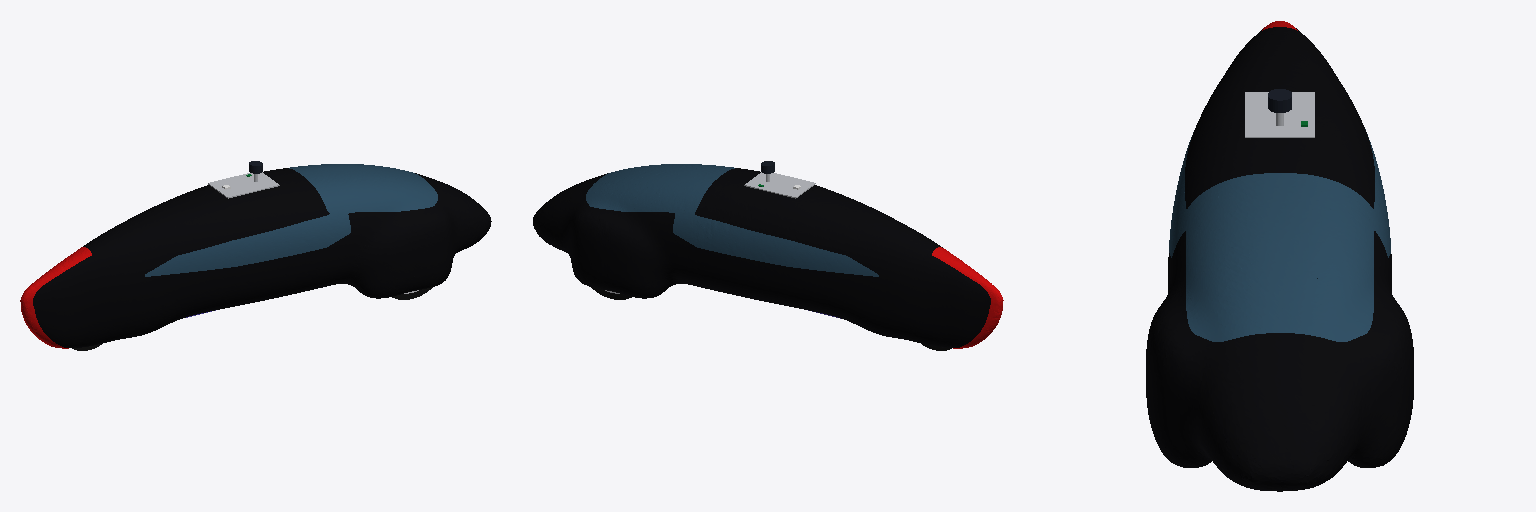
URDF robot description (enimia_black):
<?xml version="1.0"?>
<!--
  ENIMIA - Black Edition (ENIM Team Tunisia) - Prototype Shell Eco-marathon      v3 (surface lissee)
  Carrosserie reconstruite a partir des silhouettes des vues de dessus et de cote :
    - profil de toit / bas de caisse releve pixel par pixel sur la vue de cote
    - largeur (plan) relevee sur la vue de dessus
    - 2 carenes de roues avant (contour releve sur la vue de cote + vue de dessus)
    - vitrage (cockpit + vitres laterales) et bord de fuite rouge separes
  v3 : profils C2 (B-splines), raccords carenes/fuselage arrondis, lissage de Taubin,
       maillages COLLADA (.dae) avec normales par sommet -> ombrage lisse dans RViz/Gazebo.
       Copies STL (ombrage plat) dans meshes/stl/ pour les outils qui ne lisent pas le DAE.
  Dimensions : L 2684 x l 770 x h 695 mm, empattement 1704 mm,
               voie avant 567 mm, masse 25 kg
  Porte-a-faux : avant 593 mm, arriere 387 mm
  Roues : avant R 210 mm (limite par la carene), arriere R 180 mm (arc du pneu)

  Arbre cinematique :
    base_footprint (sol, milieu de l'empattement)
      └─ base_link (chassis, a hauteur d'axe avant)
           ├─ body_link               (coque + vitrage + bord de fuite, fixe : contient tout)
           ├─ front_left_steer_link   (revolute)   └─ front_left_wheel_link  (continuous)
           ├─ front_right_steer_link  (revolute)   └─ front_right_wheel_link (continuous)
           └─ rear_wheel_link         (continuous, motrice)
  Reperes REP-103 : X avant, Y gauche, Z haut. Unites SI.
-->
<robot name="enimia_black">

  <!-- ===================== Materiaux ===================== -->
  <material name="carbon_black"><color rgba="0.07 0.07 0.08 0.55"/></material>
  <material name="glass"><color rgba="0.20 0.32 0.40 0.35"/></material>
  <material name="tail_red"><color rgba="0.80 0.08 0.08 0.9"/></material>
  <material name="aluminium"><color rgba="0.75 0.76 0.78 1.0"/></material>
  <material name="tire"><color rgba="0.10 0.10 0.10 1.0"/></material>
  <material name="rim"><color rgba="0.82 0.82 0.84 1.0"/></material>
  <material name="floor"><color rgba="0.35 0.30 0.70 1.0"/></material>
  <material name="battery"><color rgba="0.85 0.80 0.15 1.0"/></material>
  <material name="lidar_body"><color rgba="0.12 0.14 0.18 1.0"/></material>
  <material name="gps_white"><color rgba="0.92 0.92 0.92 1.0"/></material>
  <material name="pcb_green"><color rgba="0.05 0.45 0.20 1.0"/></material>

  <!-- ===================== Base ===================== -->
  <link name="base_footprint"/>

  <joint name="base_footprint_joint" type="fixed">
    <parent link="base_footprint"/>
    <child link="base_link"/>
    <origin xyz="0 0 0.21" rpy="0 0 0"/>
  </joint>

  <!-- Chassis : plancher, traverse avant, colonne de direction, arceau, bras arriere, batterie -->
  <link name="base_link">
    <visual>
      <origin xyz="0.0955 0.0000 -0.0850" rpy="0 0 0"/>
      <geometry><box size="1.3 0.28 0.02"/></geometry>
      <material name="floor"/>
    </visual>
    <visual>
      <origin xyz="0.8520 0.0000 0.0000" rpy="0 0 0"/>
      <geometry><box size="0.04 0.48 0.03"/></geometry>
      <material name="aluminium"/>
    </visual>
    <visual>
      <origin xyz="0.8020 0.0000 0.0000" rpy="0 0 0"/>
      <geometry><box size="0.05 0.05 0.16"/></geometry>
      <material name="aluminium"/>
    </visual>
    <visual>
      <origin xyz="0.4455 0.0000 0.3400" rpy="0 0 0"/>
      <geometry><box size="0.03 0.39 0.03"/></geometry>
      <material name="aluminium"/>
    </visual>
    <visual>
      <origin xyz="0.4455 0.1800 0.1500" rpy="0 0 0"/>
      <geometry><box size="0.03 0.03 0.39"/></geometry>
      <material name="aluminium"/>
    </visual>
    <visual>
      <origin xyz="0.4455 -0.1800 0.1500" rpy="0 0 0"/>
      <geometry><box size="0.03 0.03 0.39"/></geometry>
      <material name="aluminium"/>
    </visual>
    <visual>
      <origin xyz="-0.7020 0.0350 -0.0575" rpy="0 0.18 0"/>
      <geometry><box size="0.31 0.015 0.025"/></geometry>
      <material name="aluminium"/>
    </visual>
    <visual>
      <origin xyz="-0.7020 -0.0350 -0.0575" rpy="0 0.18 0"/>
      <geometry><box size="0.31 0.015 0.025"/></geometry>
      <material name="aluminium"/>
    </visual>
    <visual>
      <origin xyz="-0.5320 0.0000 -0.0300" rpy="0 0 0"/>
      <geometry><box size="0.22 0.07 0.05"/></geometry>
      <material name="battery"/>
    </visual>
    <collision>
      <origin xyz="0.0955 0 -0.0850" rpy="0 0 0"/>
      <geometry><box size="1.3 0.28 0.02"/></geometry>
    </collision>
    <inertial>
      <origin xyz="-0.05 0 -0.050" rpy="0 0 0"/>
      <mass value="12.7"/>
      <inertia ixx="0.137583" ixy="0" ixz="0" iyy="2.42358" iyz="0" izz="2.4765"/>
    </inertial>
  </link>

  <!-- ===================== Coque (corps) ===================== -->
  <!-- Maillages exprimes dans le repere sol (origine au milieu de l'empattement) -->
  <link name="body_link">
    <visual>
      <origin xyz="0 0 0" rpy="0 0 0"/>
      <geometry><mesh filename="package://vehicle_description/meshes/body_shell.dae"/></geometry>
      <material name="carbon_black"/>
    </visual>
    <visual>
      <origin xyz="0 0 0" rpy="0 0 0"/>
      <geometry><mesh filename="package://vehicle_description/meshes/canopy.dae"/></geometry>
      <material name="glass"/>
    </visual>
    <visual>
      <origin xyz="0 0 0" rpy="0 0 0"/>
      <geometry><mesh filename="package://vehicle_description/meshes/tail_tip.dae"/></geometry>
      <material name="tail_red"/>
    </visual>
    <collision>
      <origin xyz="0 0 0" rpy="0 0 0"/>
      <geometry><mesh filename="package://vehicle_description/meshes/body_collision.stl"/></geometry>
    </collision>
    <inertial>
      <origin xyz="0.1939 0 0.329146" rpy="0 0 0"/>
      <mass value="7.0"/>
      <inertia ixx="0.587735" ixy="0.00022506" ixz="0.084203" iyy="3.65022" iyz="0" izz="3.67245"/>
    </inertial>
  </link>

  <joint name="body_joint" type="fixed">
    <parent link="base_link"/>
    <child link="body_link"/>
    <origin xyz="0 0 -0.21" rpy="0 0 0"/>
  </joint>

  <!-- ===================== Roue avant gauche (dans sa carene) ===================== -->
  <link name="front_left_steer_link">
    <visual>
      <origin xyz="0 -0.040 0" rpy="0 0 0"/>
      <geometry><box size="0.06 0.04 0.10"/></geometry>
      <material name="aluminium"/>
    </visual>
    <inertial>
      <origin xyz="0 -0.040 0" rpy="0 0 0"/>
      <mass value="0.4"/>
      <inertia ixx="0.000386667" ixy="0" ixz="0" iyy="0.000453333" iyz="0" izz="0.000173333"/>
    </inertial>
  </link>

  <joint name="front_left_steer_joint" type="revolute">
    <parent link="base_link"/>
    <child link="front_left_steer_link"/>
    <origin xyz="0.8520 0.2835 0" rpy="0 0 0"/>
    <axis xyz="0 0 1"/>
    <limit lower="-0.21" upper="0.21" effort="20" velocity="2.0"/>
    <dynamics damping="0.1" friction="0.05"/>
  </joint>

  <link name="front_left_wheel_link">
    <visual>
      <origin xyz="0 0 0" rpy="1.5708 0 0"/>
      <geometry><cylinder radius="0.21" length="0.035"/></geometry>
      <material name="tire"/>
    </visual>
    <visual>
      <origin xyz="0 0 0" rpy="1.5708 0 0"/>
      <geometry><cylinder radius="0.175" length="0.039"/></geometry>
      <material name="rim"/>
    </visual>
    <collision>
      <origin xyz="0 0 0" rpy="1.5708 0 0"/>
      <geometry><cylinder radius="0.21" length="0.035"/></geometry>
    </collision>
    <inertial>
      <origin xyz="0 0 0" rpy="0 0 0"/>
      <mass value="1.0"/>
      <inertia ixx="0.0179333" ixy="0" ixz="0" iyy="0.0356625" iyz="0" izz="0.0179333"/>
    </inertial>
  </link>

  <joint name="front_left_wheel_joint" type="continuous">
    <parent link="front_left_steer_link"/>
    <child link="front_left_wheel_link"/>
    <origin xyz="0 0 0" rpy="0 0 0"/>
    <axis xyz="0 1 0"/>
    <limit effort="10" velocity="40"/>
    <dynamics damping="0.01" friction="0.0"/>
  </joint>

  <!-- ===================== Roue avant droite (dans sa carene) ===================== -->
  <link name="front_right_steer_link">
    <visual>
      <origin xyz="0 0.040 0" rpy="0 0 0"/>
      <geometry><box size="0.06 0.04 0.10"/></geometry>
      <material name="aluminium"/>
    </visual>
    <inertial>
      <origin xyz="0 0.040 0" rpy="0 0 0"/>
      <mass value="0.4"/>
      <inertia ixx="0.000386667" ixy="0" ixz="0" iyy="0.000453333" iyz="0" izz="0.000173333"/>
    </inertial>
  </link>

  <joint name="front_right_steer_joint" type="revolute">
    <parent link="base_link"/>
    <child link="front_right_steer_link"/>
    <origin xyz="0.8520 -0.2835 0" rpy="0 0 0"/>
    <axis xyz="0 0 1"/>
    <limit lower="-0.21" upper="0.21" effort="20" velocity="2.0"/>
    <dynamics damping="0.1" friction="0.05"/>
  </joint>

  <link name="front_right_wheel_link">
    <visual>
      <origin xyz="0 0 0" rpy="1.5708 0 0"/>
      <geometry><cylinder radius="0.21" length="0.035"/></geometry>
      <material name="tire"/>
    </visual>
    <visual>
      <origin xyz="0 0 0" rpy="1.5708 0 0"/>
      <geometry><cylinder radius="0.175" length="0.039"/></geometry>
      <material name="rim"/>
    </visual>
    <collision>
      <origin xyz="0 0 0" rpy="1.5708 0 0"/>
      <geometry><cylinder radius="0.21" length="0.035"/></geometry>
    </collision>
    <inertial>
      <origin xyz="0 0 0" rpy="0 0 0"/>
      <mass value="1.0"/>
      <inertia ixx="0.0179333" ixy="0" ixz="0" iyy="0.0356625" iyz="0" izz="0.0179333"/>
    </inertial>
  </link>

  <joint name="front_right_wheel_joint" type="continuous">
    <parent link="front_right_steer_link"/>
    <child link="front_right_wheel_link"/>
    <origin xyz="0 0 0" rpy="0 0 0"/>
    <axis xyz="0 1 0"/>
    <limit effort="10" velocity="40"/>
    <dynamics damping="0.01" friction="0.0"/>
  </joint>

  <!-- ===================== Roue arriere motrice (moteur-roue) ===================== -->
  <link name="rear_wheel_link">
    <visual>
      <origin xyz="0 0 0" rpy="1.5708 0 0"/>
      <geometry><cylinder radius="0.18" length="0.035"/></geometry>
      <material name="tire"/>
    </visual>
    <visual>
      <origin xyz="0 0 0" rpy="1.5708 0 0"/>
      <geometry><cylinder radius="0.145" length="0.039"/></geometry>
      <material name="rim"/>
    </visual>
    <visual>
      <origin xyz="0 0 0" rpy="1.5708 0 0"/>
      <geometry><cylinder radius="0.07" length="0.06"/></geometry>
      <material name="aluminium"/>
    </visual>
    <collision>
      <origin xyz="0 0 0" rpy="1.5708 0 0"/>
      <geometry><cylinder radius="0.18" length="0.035"/></geometry>
    </collision>
    <inertial>
      <origin xyz="0 0 0" rpy="0 0 0"/>
      <mass value="2.5"/>
      <inertia ixx="0.0142319" ixy="0" ixz="0" iyy="0.02732" iyz="0" izz="0.0142319"/>
    </inertial>
  </link>

  <joint name="rear_wheel_joint" type="continuous">
    <parent link="base_link"/>
    <child link="rear_wheel_link"/>
    <origin xyz="-0.8520 0 -0.030" rpy="0 0 0"/>
    <axis xyz="0 1 0"/>
    <limit effort="15" velocity="40"/>
    <dynamics damping="0.01" friction="0.0"/>
  </joint>

  <!-- ===================== Capteurs (sur le toit) ===================== -->
  <!--
    Repere REP-103 : X avant, Y gauche, Z haut.
    Une plaque de montage est posee sur le sommet du toit (point haut de la coque : z_sol = 0.694 m,
    plat sur environ x = -0.15 a +0.30 m et |y| < 0.10 m). Tout est monte dessus :
      - LiDAR sur un petit mat, au-dessus du toit pour avoir 360 degres libres,
        incline de 8 deg vers l'avant (+pitch autour de Y) pour voir les petits cones ;
      - GPS derriere le LiDAR, plus bas que le plan de scan (le LiDAR incline ne le voit jamais) ;
      - IMU a cote du LiDAR (cote gauche), a plat, axes alignes sur le vehicule (rpy = 0).
    Positions de simulation : a remplacer par les mesures reelles des supports.
  -->
  <link name="sensor_mount_link">
    <visual>
      <origin xyz="0 0 -0.003" rpy="0 0 0"/>
      <geometry><box size="0.30 0.20 0.006"/></geometry>
      <material name="aluminium"/>
    </visual>
    <visual>
      <origin xyz="0.070 0 0.027" rpy="0 0 0"/>
      <geometry><cylinder radius="0.012" length="0.054"/></geometry>
      <material name="aluminium"/>
    </visual>
    <inertial>
      <origin xyz="0 0 0.0" rpy="0 0 0"/>
      <mass value="0.2"/>
      <inertia ixx="0.0006817" ixy="0" ixz="0" iyy="0.001515" iyz="0" izz="0.002167"/>
    </inertial>
  </link>

  <joint name="sensor_mount_joint" type="fixed">
    <parent link="base_link"/>
    <child link="sensor_mount_link"/>
    <origin xyz="0.050 0.000 0.492" rpy="0 0 0"/>
  </joint>

  <!-- LiDAR (RPLIDAR A1M8) : origine = plan de scan. +8 deg de pitch => l'axe X du LiDAR pointe vers le sol, devant. -->
  <link name="lidar_link">
    <visual>
      <origin xyz="0 0 0" rpy="0 0 0"/>
      <geometry><cylinder radius="0.0355" length="0.041"/></geometry>
      <material name="lidar_body"/>
    </visual>
    <inertial>
      <origin xyz="0 0 0" rpy="0 0 0"/>
      <mass value="0.17"/>
      <inertia ixx="7.737e-05" ixy="0" ixz="0" iyy="7.737e-05" iyz="0" izz="0.0001071"/>
    </inertial>
  </link>

  <joint name="lidar_joint" type="fixed">
    <parent link="sensor_mount_link"/>
    <child link="lidar_link"/>
    <origin xyz="0.070 0.000 0.075" rpy="0 0.07 0"/>
  </joint>

  <!-- GPS/GNSS (antenne GT-U7) : origine = sommet de l'antenne, derriere le LiDAR, sur la ligne mediane. -->
  <link name="gps_link">
    <visual>
      <origin xyz="0 0 -0.005" rpy="0 0 0"/>
      <geometry><box size="0.03 0.03 0.01"/></geometry>
      <material name="gps_white"/>
    </visual>
    <inertial>
      <origin xyz="0 0 -0.005" rpy="0 0 0"/>
      <mass value="0.03"/>
      <inertia ixx="2.5e-06" ixy="0" ixz="0" iyy="2.5e-06" iyz="0" izz="4.5e-06"/>
    </inertial>
  </link>

  <joint name="gps_joint" type="fixed">
    <parent link="sensor_mount_link"/>
    <child link="gps_link"/>
    <origin xyz="-0.100 0.000 0.010" rpy="0 0 0"/>
  </joint>

  <!-- IMU (BNO055) : a plat sur la plaque, a gauche du LiDAR, axes alignes sur base_link. -->
  <link name="imu_link">
    <visual>
      <origin xyz="0 0 0.002" rpy="0 0 0"/>
      <geometry><box size="0.027 0.020 0.004"/></geometry>
      <material name="pcb_green"/>
    </visual>
    <inertial>
      <origin xyz="0 0 0.002" rpy="0 0 0"/>
      <mass value="0.005"/>
      <inertia ixx="1.733e-07" ixy="0" ixz="0" iyy="3.104e-07" iyz="0" izz="4.704e-07"/>
    </inertial>
  </link>

  <joint name="imu_joint" type="fixed">
    <parent link="sensor_mount_link"/>
    <child link="imu_link"/>
    <origin xyz="0.070 0.070 0.000" rpy="0 0 0"/>
  </joint>

  <!-- ===================== Gazebo (adherence pneus) ===================== -->
  <gazebo reference="front_left_wheel_link"><mu1>1.0</mu1><mu2>1.0</mu2></gazebo>
  <gazebo reference="front_right_wheel_link"><mu1>1.0</mu1><mu2>1.0</mu2></gazebo>
  <gazebo reference="rear_wheel_link"><mu1>1.0</mu1><mu2>1.0</mu2></gazebo>

  <!-- Gazebo Sim : publie les etats des articulations (direction + roues) pour /joint_states via ros_gz_bridge -->
  <gazebo>
    <plugin filename="gz-sim-joint-state-publisher-system"
            name="gz::sim::systems::JointStatePublisher"/>
  </gazebo>


  <!-- cmd_vel drive plugins: rear wheel velocity, front steering, ground-truth odometry -->
  <gazebo>
    <plugin filename="gz-sim-joint-controller-system"
            name="gz::sim::systems::JointController">
      <joint_name>rear_wheel_joint</joint_name>
      <topic>/enimia/rear_wheel_cmd</topic>
    </plugin>
    <plugin filename="gz-sim-joint-position-controller-system"
            name="gz::sim::systems::JointPositionController">
      <joint_name>front_left_steer_joint</joint_name>
      <topic>/enimia/steer_left_cmd</topic>
      <p_gain>10</p_gain>
      <i_gain>0</i_gain>
      <d_gain>1</d_gain>
      <cmd_max>20</cmd_max>
      <cmd_min>-20</cmd_min>
    </plugin>
    <plugin filename="gz-sim-joint-position-controller-system"
            name="gz::sim::systems::JointPositionController">
      <joint_name>front_right_steer_joint</joint_name>
      <topic>/enimia/steer_right_cmd</topic>
      <p_gain>10</p_gain>
      <i_gain>0</i_gain>
      <d_gain>1</d_gain>
      <cmd_max>20</cmd_max>
      <cmd_min>-20</cmd_min>
    </plugin>
    <plugin filename="gz-sim-odometry-publisher-system"
            name="gz::sim::systems::OdometryPublisher">
      <odom_frame>map</odom_frame>
      <robot_base_frame>base_footprint</robot_base_frame>
      <odom_topic>/enimia/odom</odom_topic>
      <tf_topic>/enimia/tf</tf_topic>
      <odom_publish_frequency>30</odom_publish_frequency>
      <dimensions>3</dimensions>
    </plugin>
  </gazebo>

  <!-- ===================== Gazebo Sensors ===================== -->
  <!--
    Load the sensor systems:
    - Sensors: rendering-based sensors (gpu_lidar, cameras)
    - Imu: IMU sensor plugin
    - NavSat: GPS / NavSat sensor plugin
  -->
  <!--
    2-D LiDAR (RPLIDAR A1M8 approximation).
    360°, 10 Hz, 0.15–12 m, 1° resolution.
    Topic: /lidar_link/scan  (bridged to /scan in simulation.launch.py).
    The joint has rpy="0 0.07 0" (+4° pitch) so the scan plane is slightly
    tilted — this matches the physical mount. The bridge delivers a flat
    LaserScan; the tilt is negligible for 2D obstacle detection.
  -->
  <gazebo reference="lidar_link">
    <sensor name="lidar" type="gpu_lidar">
      <topic>/lidar_link/scan</topic>
      <gz_frame_id>lidar_link</gz_frame_id>
      <update_rate>10</update_rate>
      <always_on>true</always_on>
      <visualize>false</visualize>
      <lidar>
        <scan>
          <horizontal>
            <samples>360</samples>
            <resolution>1</resolution>
            <min_angle>-3.14159265</min_angle>
            <max_angle>3.14159265</max_angle>
          </horizontal>
        </scan>
        <range>
          <min>0.15</min>
          <max>12.0</max>
          <resolution>0.01</resolution>
        </range>
        <noise type="gaussian">
          <mean>0.0</mean>
          <stddev>0.01</stddev>
        </noise>
      </lidar>
    </sensor>
  </gazebo>

  <!--
    IMU (BNO055 approximation).
    100 Hz, small Gaussian noise on gyro and accel.
    Topic: /imu_link/imu  (bridged to /imu/data in simulation.launch.py).
    imu_link axes are aligned with base_link (rpy=0) so no additional
    rotation is needed in ekf_local.yaml / ekf_global.yaml.
  -->
  <gazebo reference="imu_link">
    <sensor name="imu" type="imu">
      <topic>/imu_link/imu</topic>
      <gz_frame_id>imu_link</gz_frame_id>
      <update_rate>100</update_rate>
      <always_on>true</always_on>
      <imu>
        <angular_velocity>
          <x><noise type="gaussian"><mean>0</mean><stddev>0.001</stddev></noise></x>
          <y><noise type="gaussian"><mean>0</mean><stddev>0.001</stddev></noise></y>
          <z><noise type="gaussian"><mean>0</mean><stddev>0.001</stddev></noise></z>
        </angular_velocity>
        <linear_acceleration>
          <x><noise type="gaussian"><mean>0</mean><stddev>0.01</stddev></noise></x>
          <y><noise type="gaussian"><mean>0</mean><stddev>0.01</stddev></noise></y>
          <z><noise type="gaussian"><mean>0</mean><stddev>0.01</stddev></noise></z>
        </linear_acceleration>
      </imu>
    </sensor>
  </gazebo>

  <!--
    GPS/GNSS (GT-U7 approximation).
    5 Hz. The world's <spherical_coordinates> block sets the origin at
    Kamień Śląski so fixes land at the correct lat/lon.
    Topic: /gps_link/navsat  (bridged to /fix in simulation.launch.py).
  -->
  <gazebo reference="gps_link">
    <sensor name="navsat" type="navsat">
      <topic>/gps_link/navsat</topic>
      <gz_frame_id>gps_link</gz_frame_id>
      <update_rate>5</update_rate>
      <always_on>true</always_on>
    </sensor>
  </gazebo>

</robot>

--- Facts derived from the render (not from the file) ---
The picture shows the robot from 3 angles, left to right: view 1: azimuth 30°, elevation 25°; view 2: azimuth 150°, elevation 25°; view 3: azimuth 270°, elevation 25°; orthographic projection.
Robot: enimia_black — 12 links, 11 joints (2 revolute, 3 continuous, 6 fixed); root link base_footprint; default pose: all joints at 0.
Links seen in each view (by area): view 1: body_link, sensor_mount_link; view 2: body_link, sensor_mount_link; view 3: body_link, sensor_mount_link, lidar_link.
Link boxes in pixels (<box>): body_link: <box>20,164,491,348</box>; sensor_mount_link: <box>208,172,279,198</box>; body_link: <box>533,164,1003,348</box>; sensor_mount_link: <box>744,172,815,198</box>; body_link: <box>1146,21,1413,491</box>; sensor_mount_link: <box>1245,92,1314,137</box>; lidar_link: <box>1268,89,1291,112</box>.
Size in the robot's own frame: 2.68 by 0.7695 by 0.7999 metres.
Meshes: 3 distinct files referenced, 3 mesh visuals loaded (3 Collada DAE).
